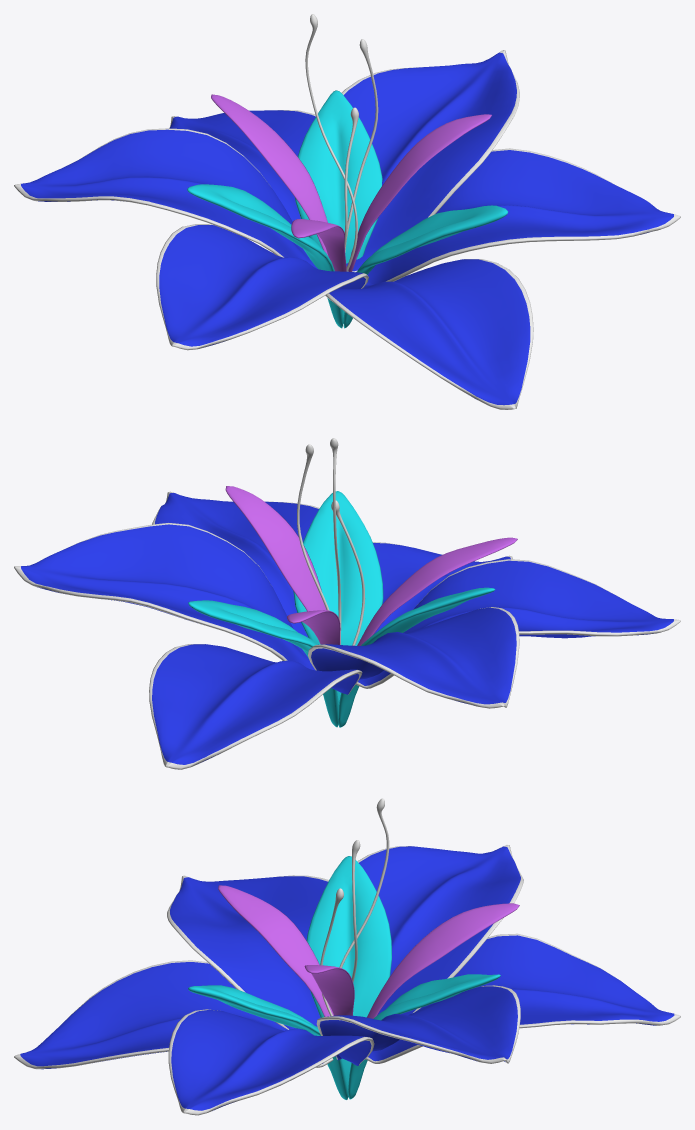
Rendered from strangeflower.fbx.
3 renders of one model, top to bottom at view 1: azimuth 30°, elevation 25°; view 2: azimuth 150°, elevation 25°; view 3: azimuth 270°, elevation 25°, orthographic. The views are drawn at different scales.
Parts seen in each view (by area): view 1: Plane.005, Plane.003, Plane.004, Plane.006, Plane.007, Plane.001, Plane, Plane.002, Plane.010, Plane.008, Plane.009, Vert.002 (+1 smaller); view 2: Plane.003, Plane, Plane.007, Plane.006, Plane.008, Plane.004, Plane.010, Plane.011, Plane.005, Plane.001, Plane.009, Vert.002 (+1 smaller); view 3: Plane.007, Plane.004, Plane.005, Plane.006, Plane, Plane.003, Plane.009, Plane.002, Plane.011, Plane.008, Plane.001, Plane.010 (+1 smaller).
Boxes of the visible parts, x1,y1,x2,y2 form: Plane.005: (325,259,533,409); Plane.003: (342,50,519,272); Plane.004: (356,148,680,284); Plane.006: (156,224,368,350); Plane.007: (14,128,317,268); Plane.001: (295,90,382,323); Plane: (169,110,315,221); Plane.002: (211,94,327,255); Plane.010: (348,114,491,271); Plane.008: (343,205,508,328); Plane.009: (187,184,343,328); Vert.002: (305,14,378,271); Plane.003: (14,523,314,670); Plane: (149,644,362,769); Plane.007: (308,607,519,708); Plane.006: (356,559,680,688); Plane.008: (293,491,383,724); Plane.004: (152,491,319,637); Plane.010: (225,486,326,611); Plane.011: (357,537,517,645); Plane.005: (372,542,512,633); Plane.001: (188,600,338,727); Plane.009: (338,587,495,727); Vert.002: (297,438,365,645); Plane.007: (357,845,523,1014); Plane.004: (168,1009,374,1115); Plane.005: (14,960,333,1069); Plane.006: (167,875,328,1029); Plane: (365,933,680,1063); Plane.003: (316,985,520,1063); Plane.009: (306,856,391,1097); Plane.002: (367,903,519,1018); Plane.011: (218,885,333,1016); Plane.008: (188,985,348,1099); Plane.001: (348,974,500,1099); Plane.010: (304,965,354,1015).
Size of the model in its own units: 601 by 341 by 700.
